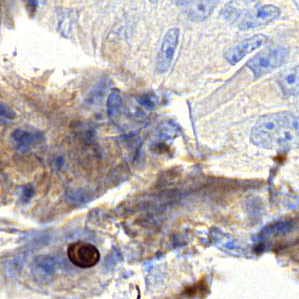Lymphocyte: (65, 239, 105, 268)
